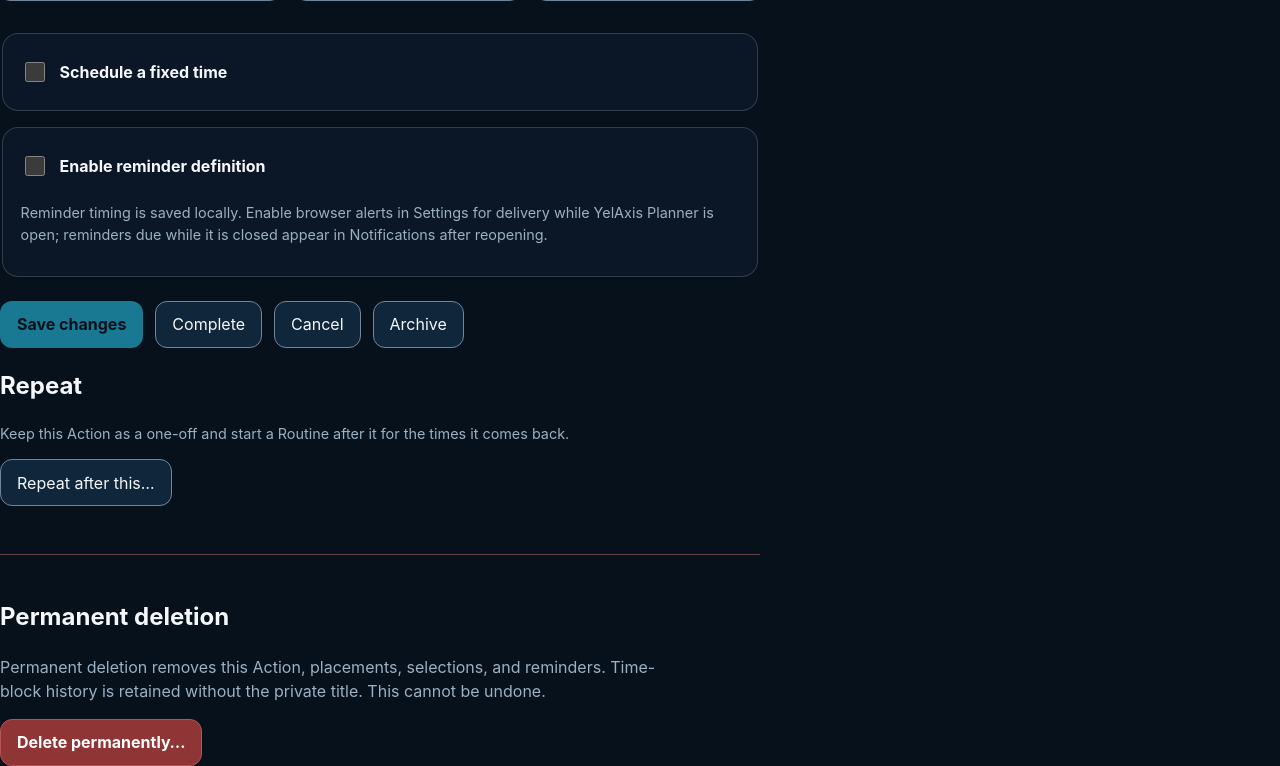
Test: Repeat after this: default start date › starts the day after a due date when the Action has no placement
The image size is (1280, 766).
(page scrolled)
Click the button "Repeat after this…" at (86, 483), box [0,460,172,506]
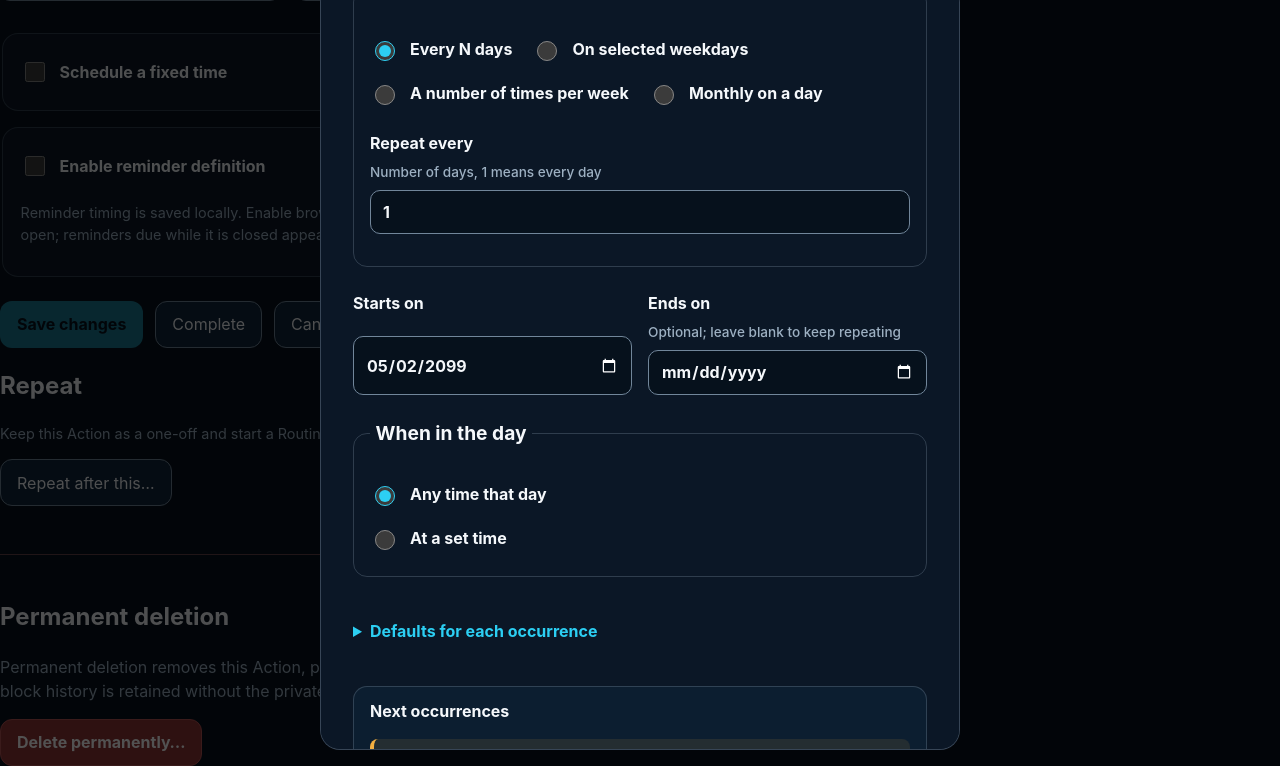
Now the date field labelled "Starts on" holds "2099-05-02", box [353,336,632,395]
